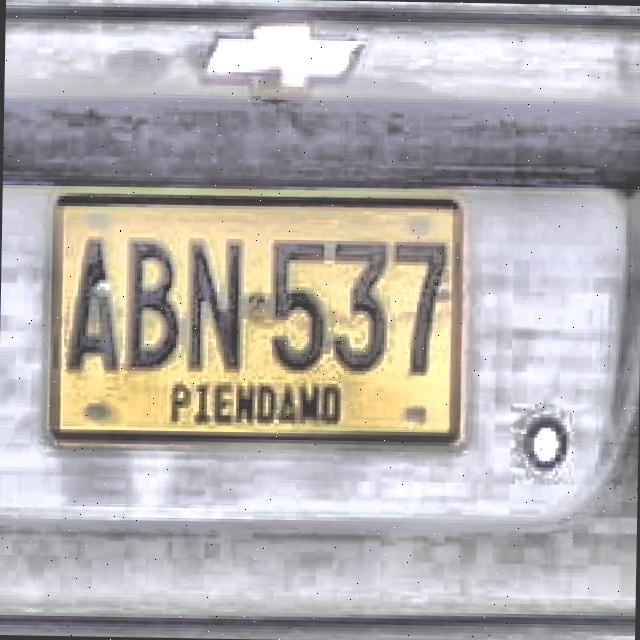plate: (54, 198, 460, 436)
